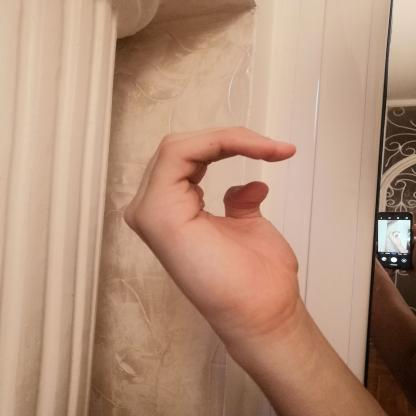JEEM: (107, 117, 338, 341)
